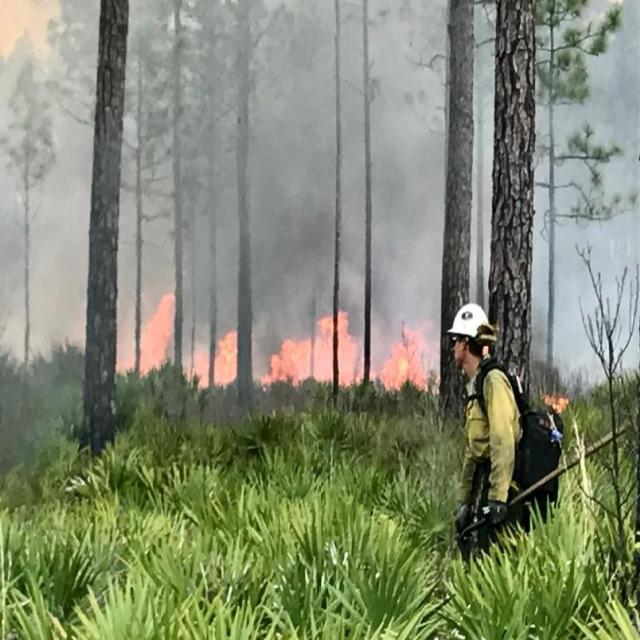Fire: (262, 311, 362, 390), (371, 322, 438, 394), (140, 292, 174, 378), (195, 329, 238, 390), (544, 393, 570, 414)
Smoke: (254, 66, 336, 314), (372, 137, 443, 322), (182, 212, 238, 335), (339, 110, 368, 306), (601, 10, 640, 134)
